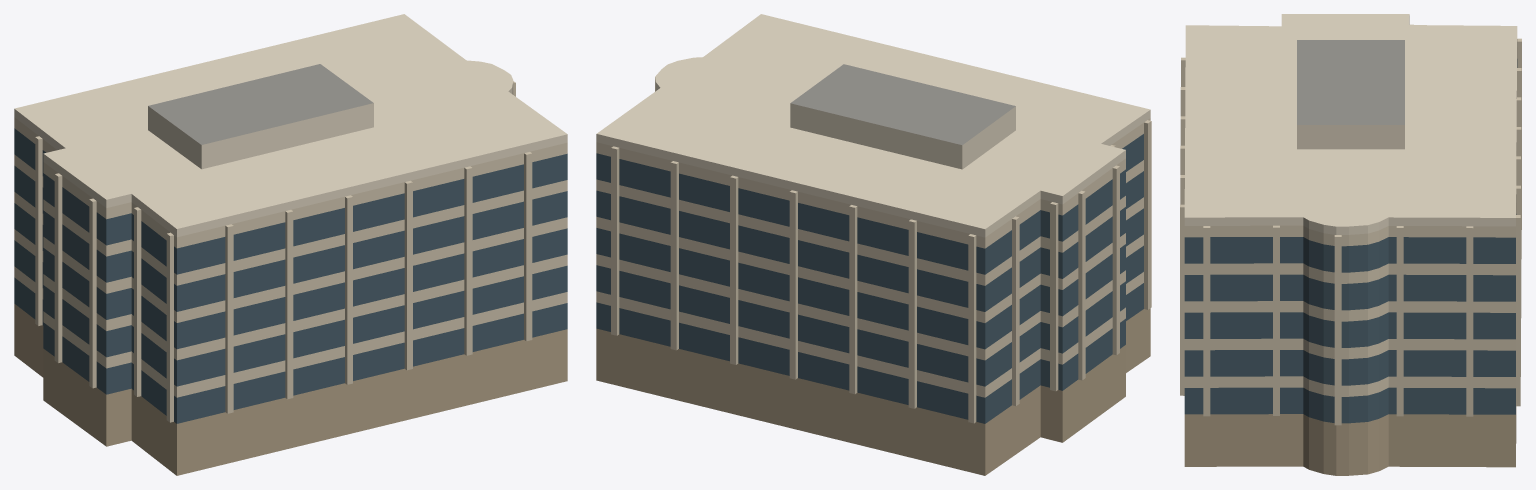
Rendered from hotel_building_w331337_w331337786.glb.
3 renders of one model, left to right at view 1: azimuth 30°, elevation 25°; view 2: azimuth 150°, elevation 25°; view 3: azimuth 270°, elevation 25°, orthographic.
Parts seen in each view (by area): view 1: Hotel_Block; view 2: Hotel_Block; view 3: Hotel_Block.
Part boxes in pixels (left/top/right/bottom): Hotel_Block: left=14, top=14, right=567, bottom=475; Hotel_Block: left=596, top=14, right=1151, bottom=475; Hotel_Block: left=1180, top=14, right=1521, bottom=475.
Size of the model in its own units: 66.34 by 39.1 by 44.22.
